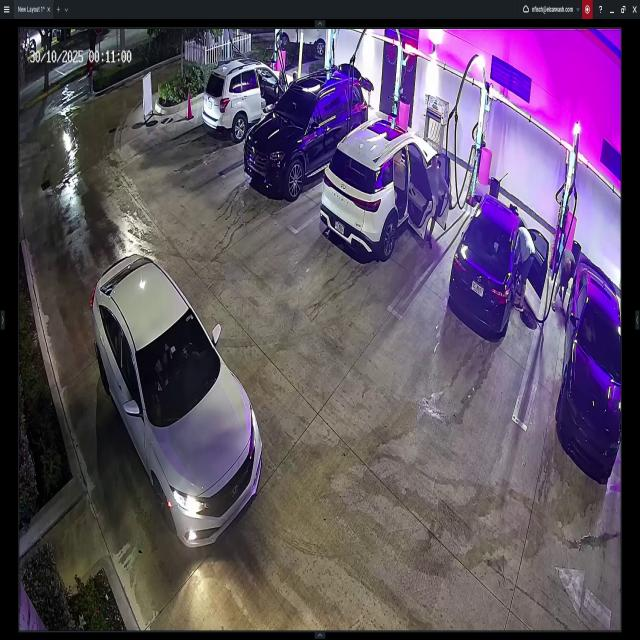Car: (93, 258, 262, 550), (323, 122, 448, 258), (246, 68, 368, 194), (450, 195, 550, 337), (559, 261, 621, 480), (203, 51, 295, 139), (277, 24, 327, 59)
